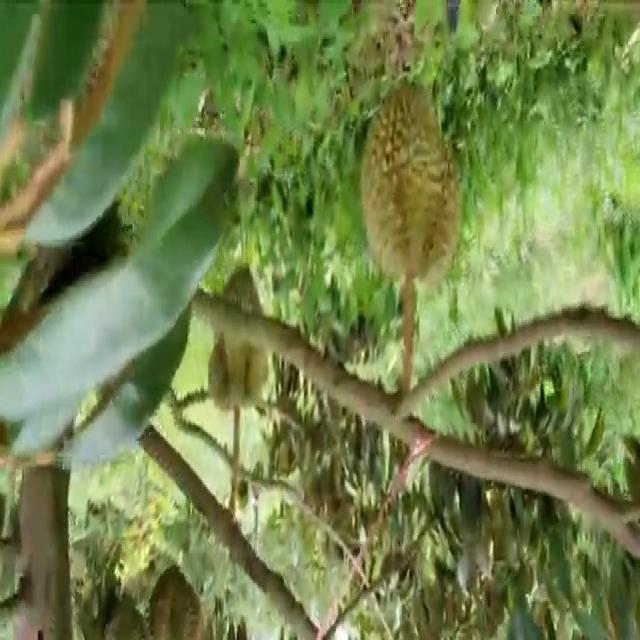durian: (355, 73, 463, 299), (206, 260, 273, 420)
